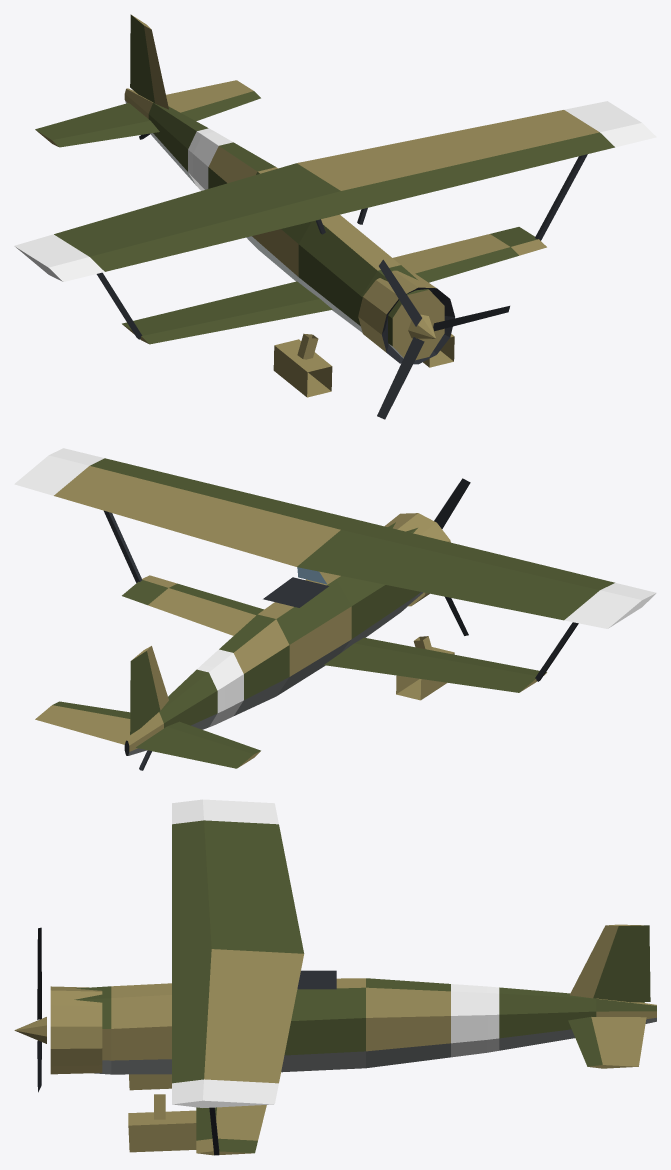
The picture shows the model from 3 angles, top to bottom: view 1: azimuth 30°, elevation 25°; view 2: azimuth 150°, elevation 25°; view 3: azimuth 270°, elevation 25°; orthographic projection. The views are drawn at different scales.
Parts seen in each view (by area): view 1: body, prop; view 2: body, prop; view 3: body, prop.
Part boxes in pixels (<box>): body: <box>14,14,656,397</box>; prop: <box>377,259,509,419</box>; body: <box>14,448,656,770</box>; prop: <box>434,478,470,635</box>; body: <box>50,799,656,1155</box>; prop: <box>14,927,46,1092</box>.
Size of the model in its own units: 9.7 by 2.85 by 8.75.
